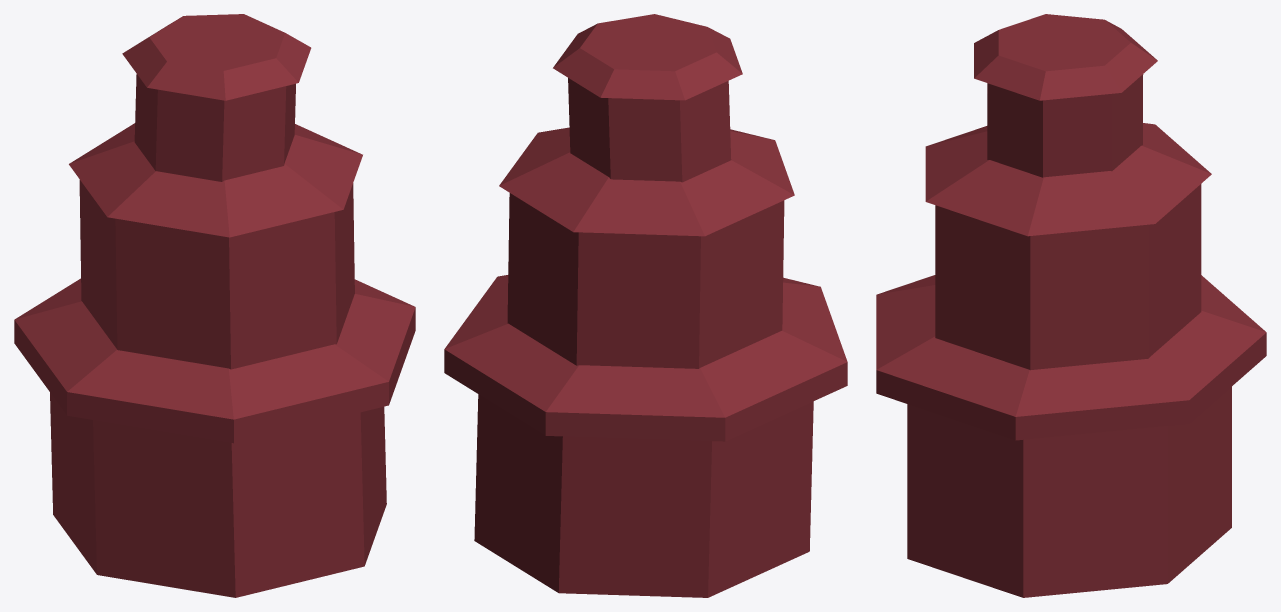
The model's file is Chocolate fountain top.fbx.
3 views of the same model, side by side, from view 1: azimuth 30°, elevation 25°; view 2: azimuth 150°, elevation 25°; view 3: azimuth 270°, elevation 25° (orthographic).
Visible parts, largest first — view 1: Cylinder.002; view 2: Cylinder.002; view 3: Cylinder.002.
Boxes of the visible parts, left/top/right/bottom form: Cylinder.002: left=14, top=14, right=415, bottom=597; Cylinder.002: left=444, top=14, right=847, bottom=597; Cylinder.002: left=876, top=14, right=1266, bottom=597.
Bounding box in the file's own units: 780 × 1042 × 761.
